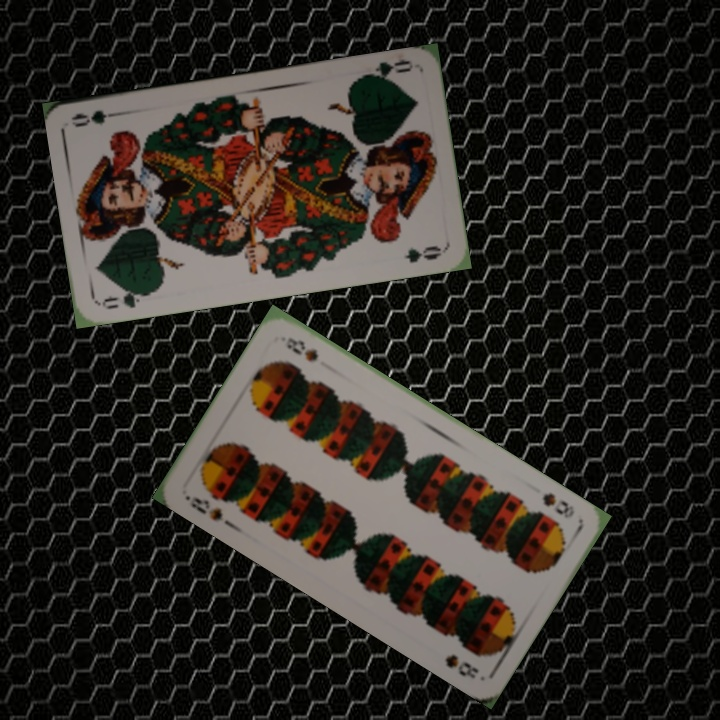GO: (356, 56, 415, 84), (97, 285, 156, 312)
S8: (181, 491, 225, 524), (538, 488, 577, 521)
